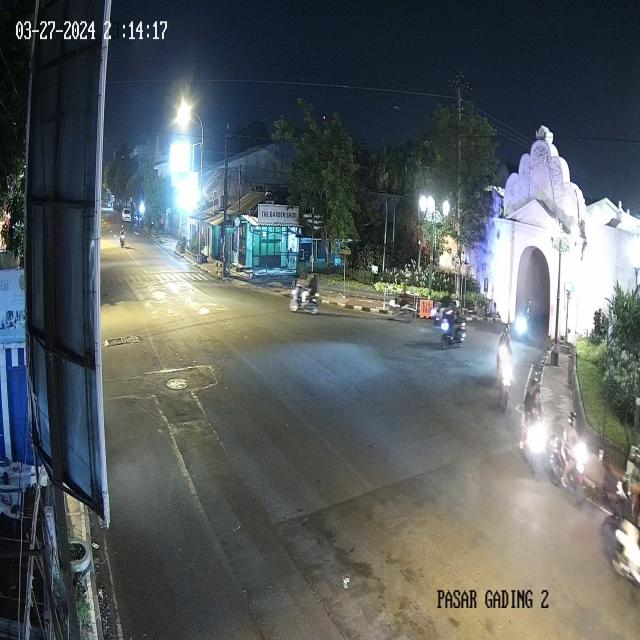car: (122, 208, 131, 222)
motorcycle: (549, 412, 586, 500), (520, 376, 543, 474), (289, 274, 321, 314), (442, 299, 466, 350), (499, 343, 514, 411), (515, 299, 533, 340), (120, 225, 126, 248)
